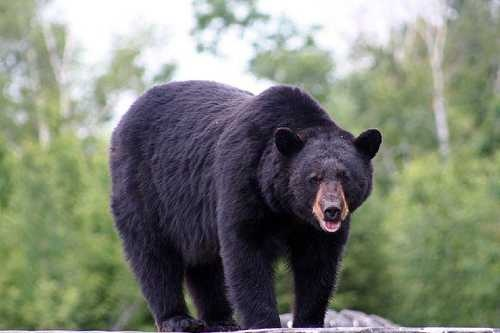bear: (263, 113, 391, 241)
